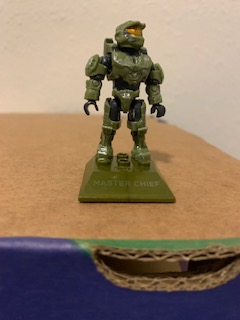chief: (81, 20, 168, 165)
spartan: (79, 18, 166, 163)
